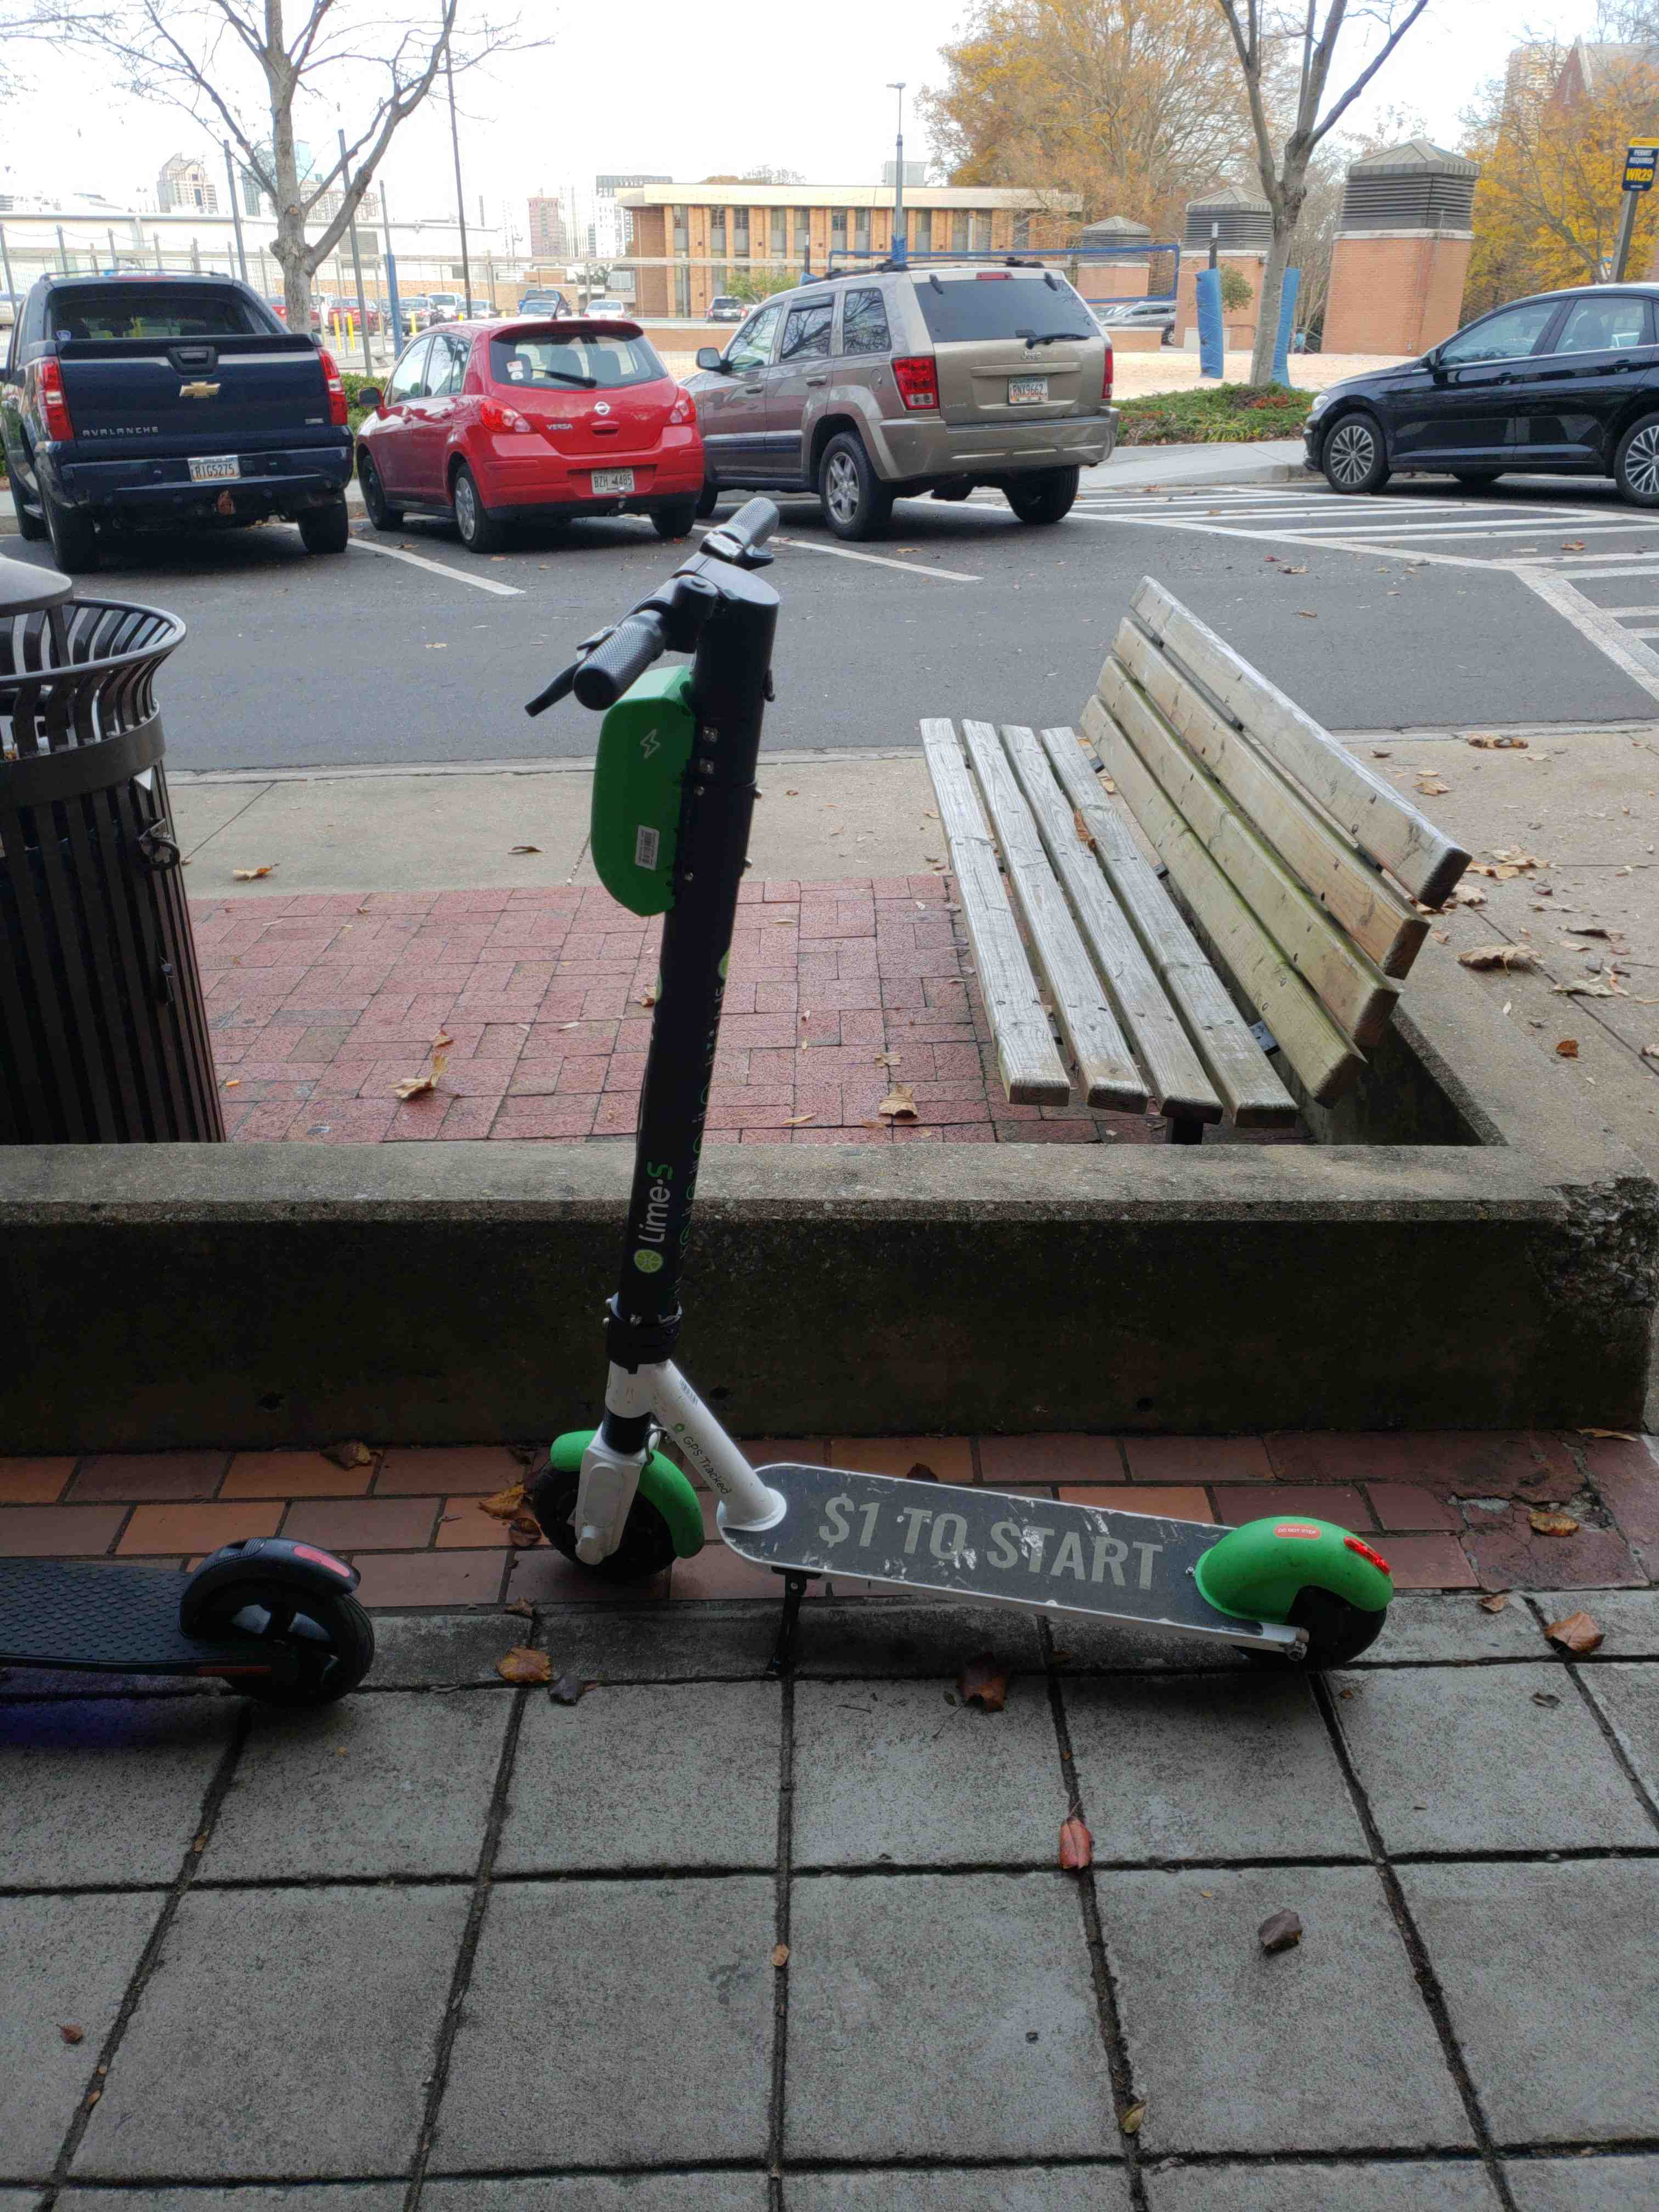scooter: (505, 524, 1420, 1752)
